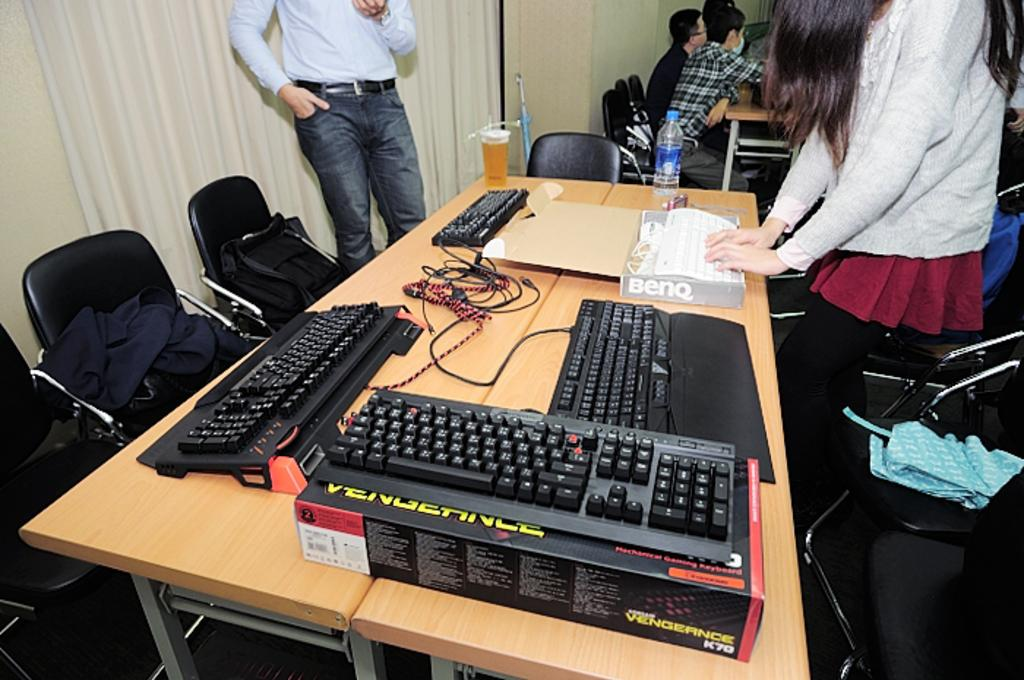Computer-keyboard: (315, 383, 734, 560), (176, 301, 388, 447), (551, 295, 670, 431), (430, 184, 532, 244), (753, 83, 787, 113)
